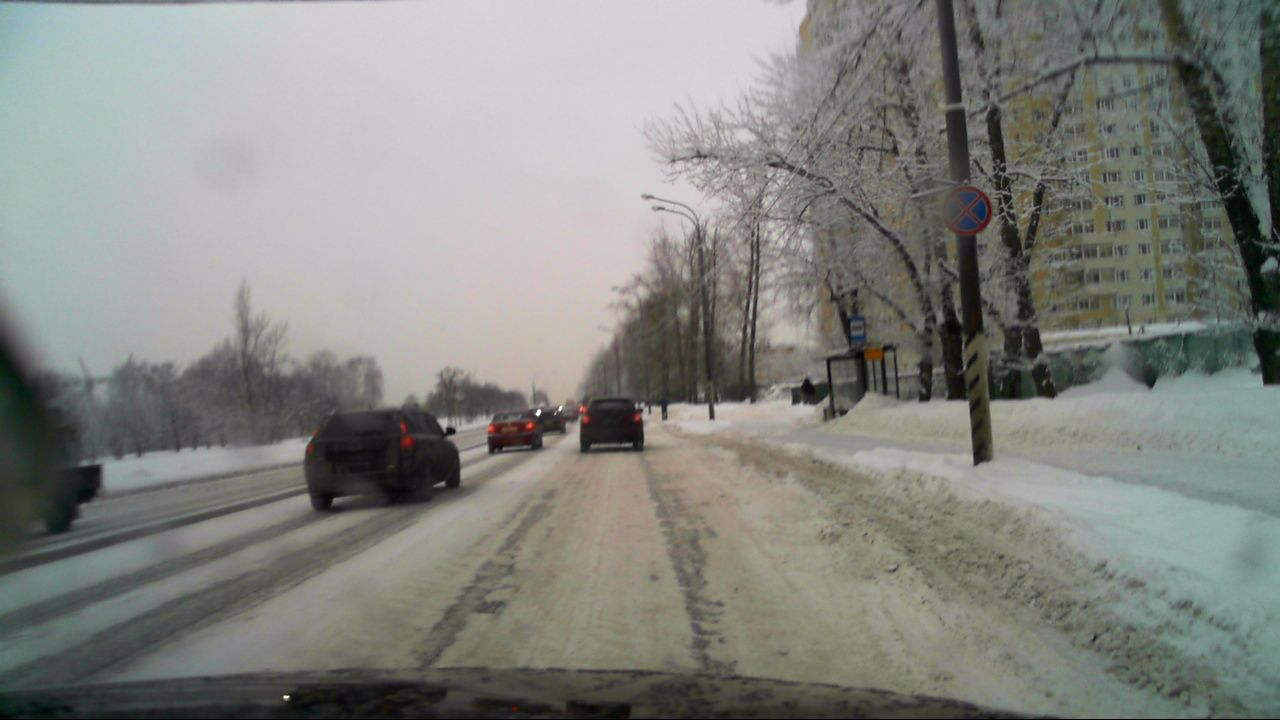No Parking: (943, 185, 994, 235)
